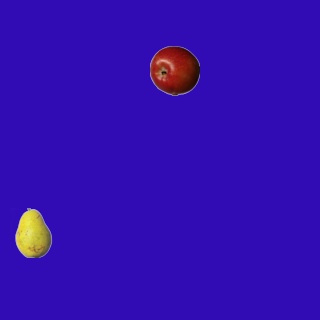Apple Braeburn: (149, 45, 199, 95)
Pear Monster: (8, 207, 58, 257)
